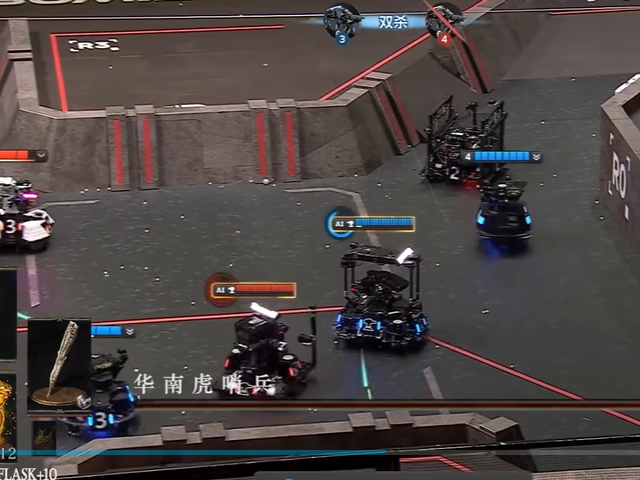rm: (338, 245, 428, 358), (211, 311, 319, 402), (419, 96, 508, 189), (473, 176, 534, 250), (92, 350, 140, 441), (1, 176, 54, 255)
